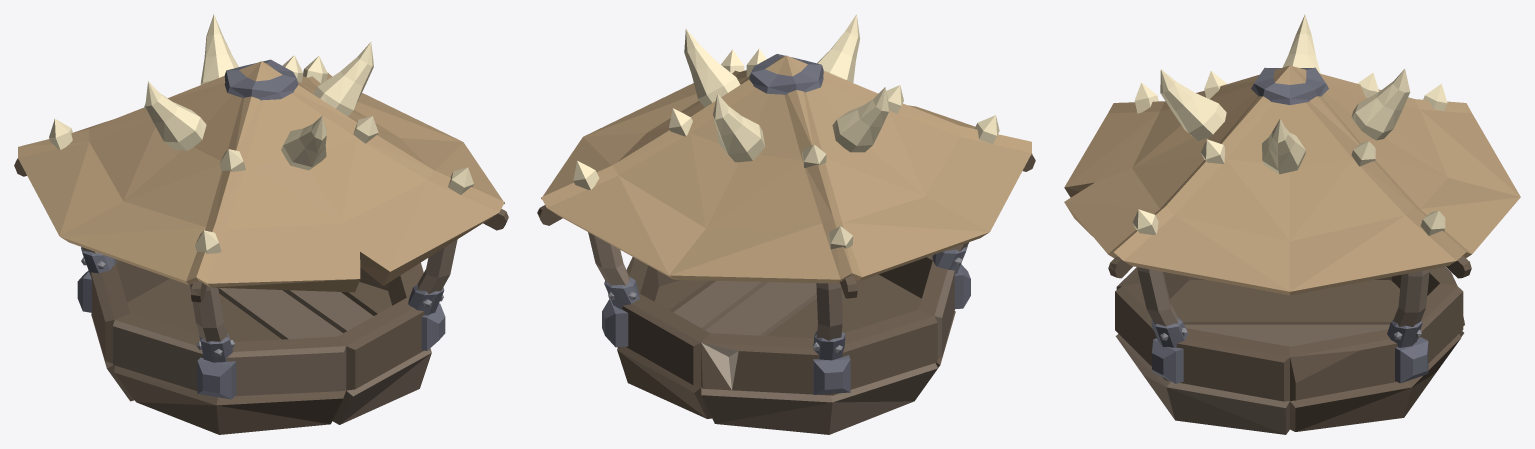
File: _TOWER_5_UP_01.fbx
3 renders of one model, left to right at view 1: azimuth 30°, elevation 25°; view 2: azimuth 150°, elevation 25°; view 3: azimuth 270°, elevation 25°, orthographic.
Visible parts, largest first — view 1: TOWER_5_UP_01; view 2: TOWER_5_UP_01; view 3: TOWER_5_UP_01.
Boxes of the visible parts, x1=… form: TOWER_5_UP_01: x1=14, y1=14, x2=508, y2=434; TOWER_5_UP_01: x1=537, y1=14, x2=1035, y2=434; TOWER_5_UP_01: x1=1064, y1=14, x2=1520, y2=434.
Size of the model in its own units: 748 by 553 by 740.
